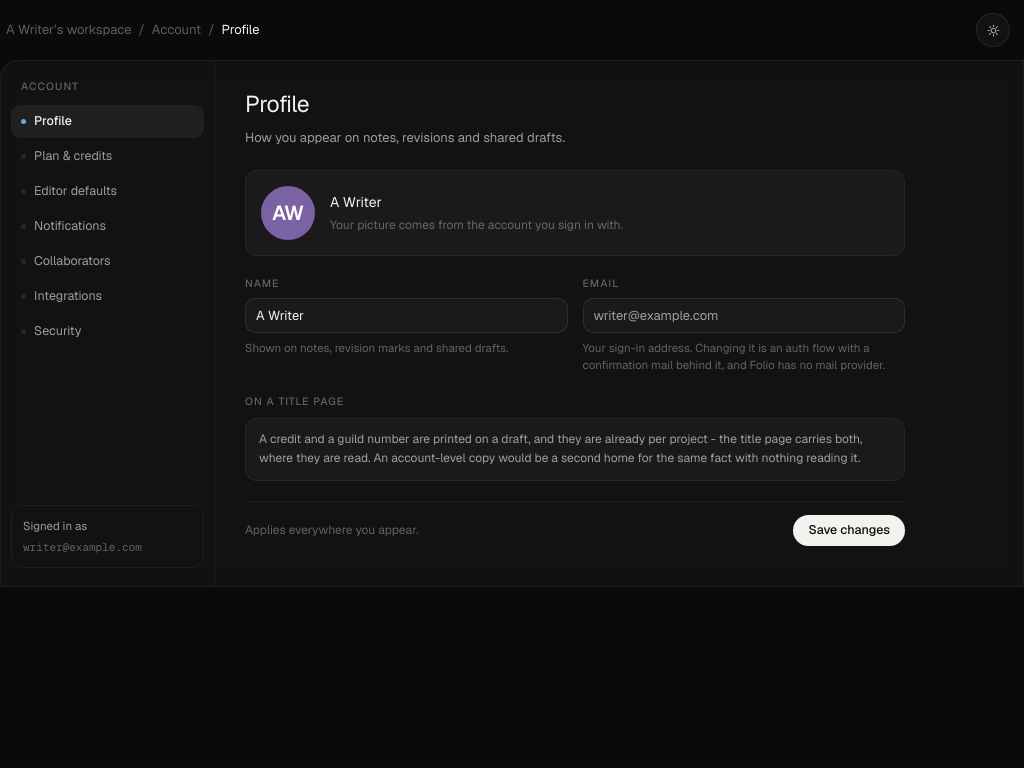
Test: Apply proposals automatically › goes back and says why when the write is refused
Step 1. Click the button "Editor defaults" → {"x": 108, "y": 191}, box [11, 175, 204, 208]
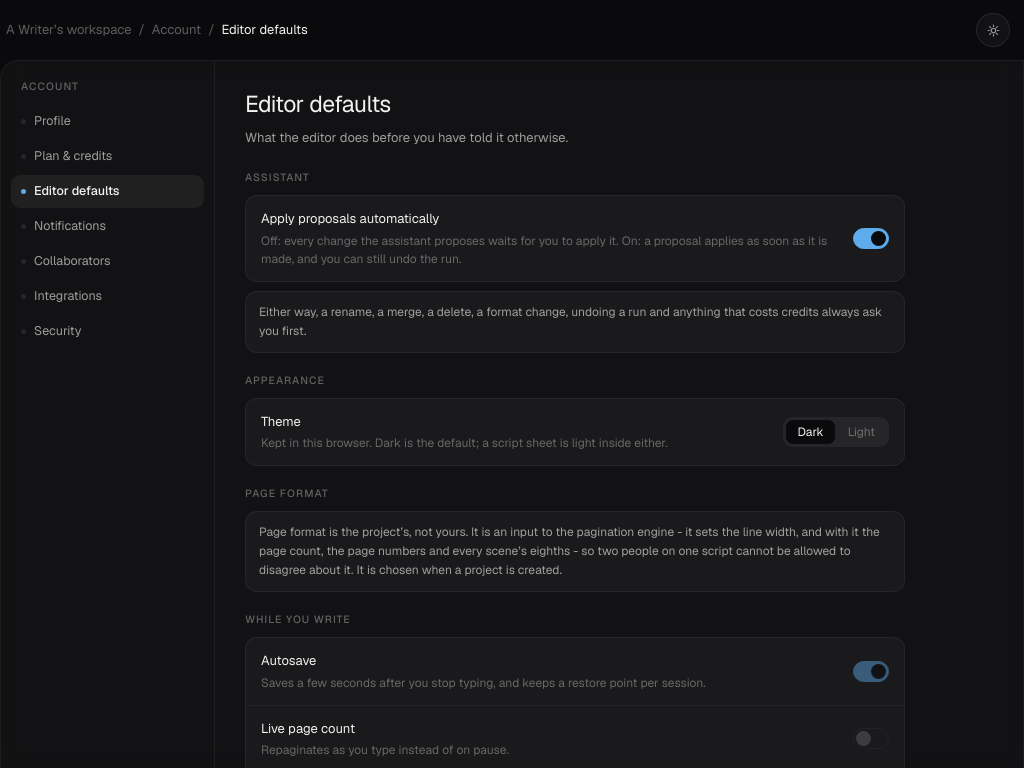
Step 2. Click the switch named "Apply proposals automatically" → {"x": 871, "y": 238}, box [853, 228, 889, 249]
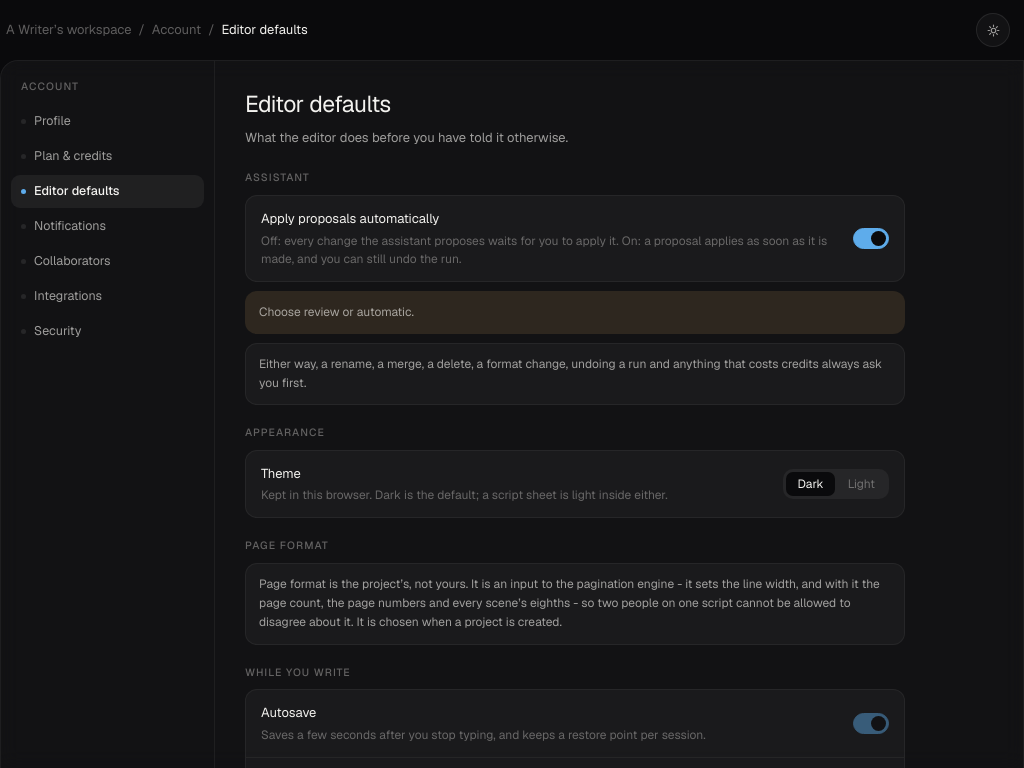
Expected: the text "Choose review or automatic." is shown, [245, 290, 905, 334]
